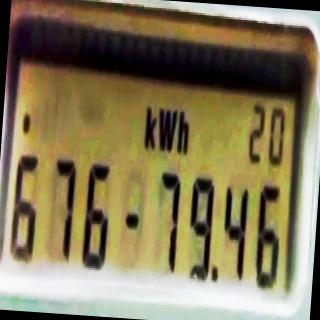-: (123, 202, 140, 238), (21, 106, 31, 137), (211, 257, 219, 286)
0: (266, 100, 288, 170)
2: (246, 94, 267, 172)
4: (218, 177, 252, 282)
6: (78, 153, 115, 274), (7, 146, 42, 267), (252, 174, 284, 295)
7: (48, 148, 80, 267), (154, 163, 183, 279)
9: (182, 167, 217, 289)
